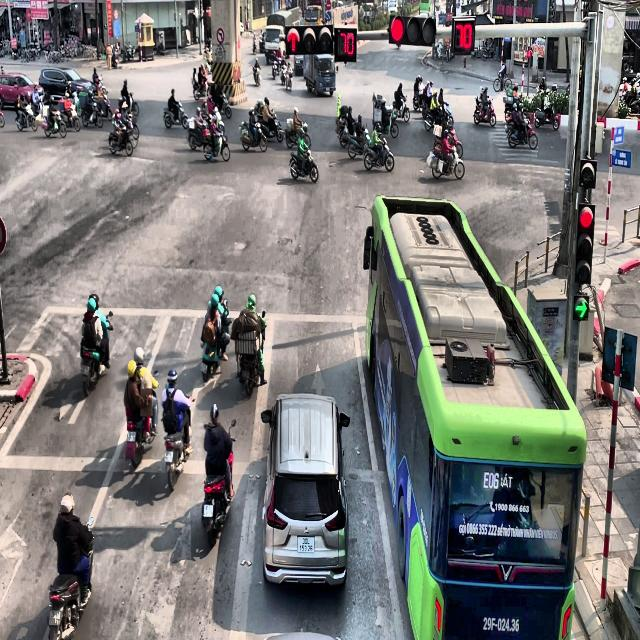BUS: (363, 195, 587, 639)
CAR: (261, 392, 350, 588), (38, 67, 96, 104), (0, 69, 44, 110)
MOTORBIKE: (48, 517, 94, 639), (201, 419, 236, 547), (125, 371, 159, 468), (163, 398, 195, 491), (80, 311, 113, 397), (235, 310, 266, 396), (430, 140, 465, 180), (109, 115, 139, 156), (201, 326, 222, 382), (363, 135, 394, 172), (41, 96, 67, 138), (534, 88, 560, 130), (507, 115, 538, 149), (203, 124, 230, 162), (290, 148, 318, 183), (238, 120, 268, 152), (256, 111, 284, 143), (208, 82, 232, 118), (187, 117, 212, 151), (424, 103, 453, 132), (15, 97, 38, 132), (81, 93, 103, 128), (58, 97, 80, 132), (163, 100, 189, 129), (286, 119, 311, 149), (348, 127, 370, 159), (473, 97, 496, 126), (376, 111, 398, 138), (118, 92, 139, 117), (391, 95, 410, 122), (494, 67, 511, 92), (192, 78, 210, 100), (280, 62, 293, 91), (412, 85, 426, 111), (252, 65, 261, 86)
TRAFFIC_LIGHT: (574, 202, 594, 284), (388, 13, 436, 46), (286, 23, 333, 54), (334, 27, 357, 62)
